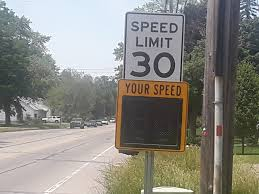speedLimit30: (125, 8, 184, 84)
